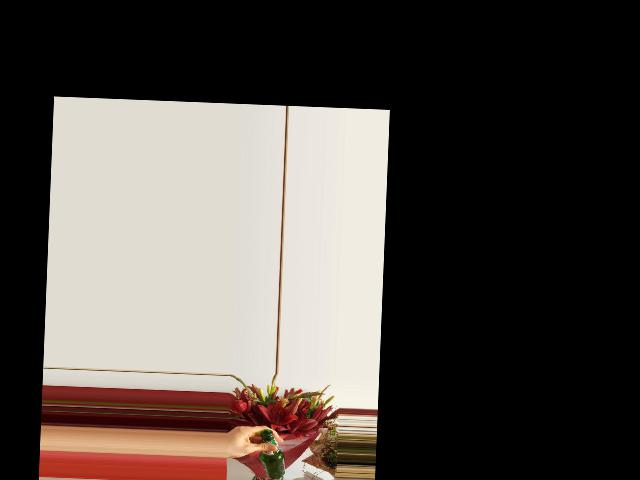beer: (258, 429, 286, 479)
